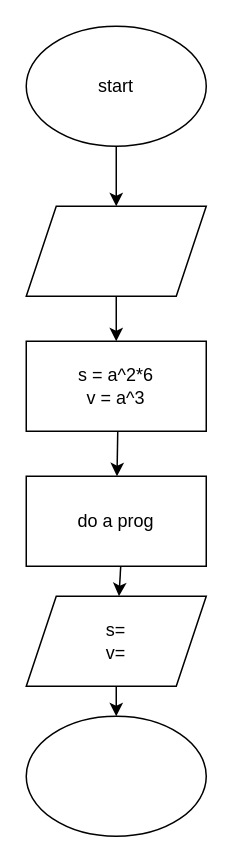
The diagram is 233 pixels wide and 863 high, and some of its shapes have lost their labels. The shapes that lost their labels are listed below. From the top down, each one's box as (x1, y1, x2, y2) in pixels, then its label:
(25, 205, 206, 296): a = input
(25, 715, 206, 836): end
